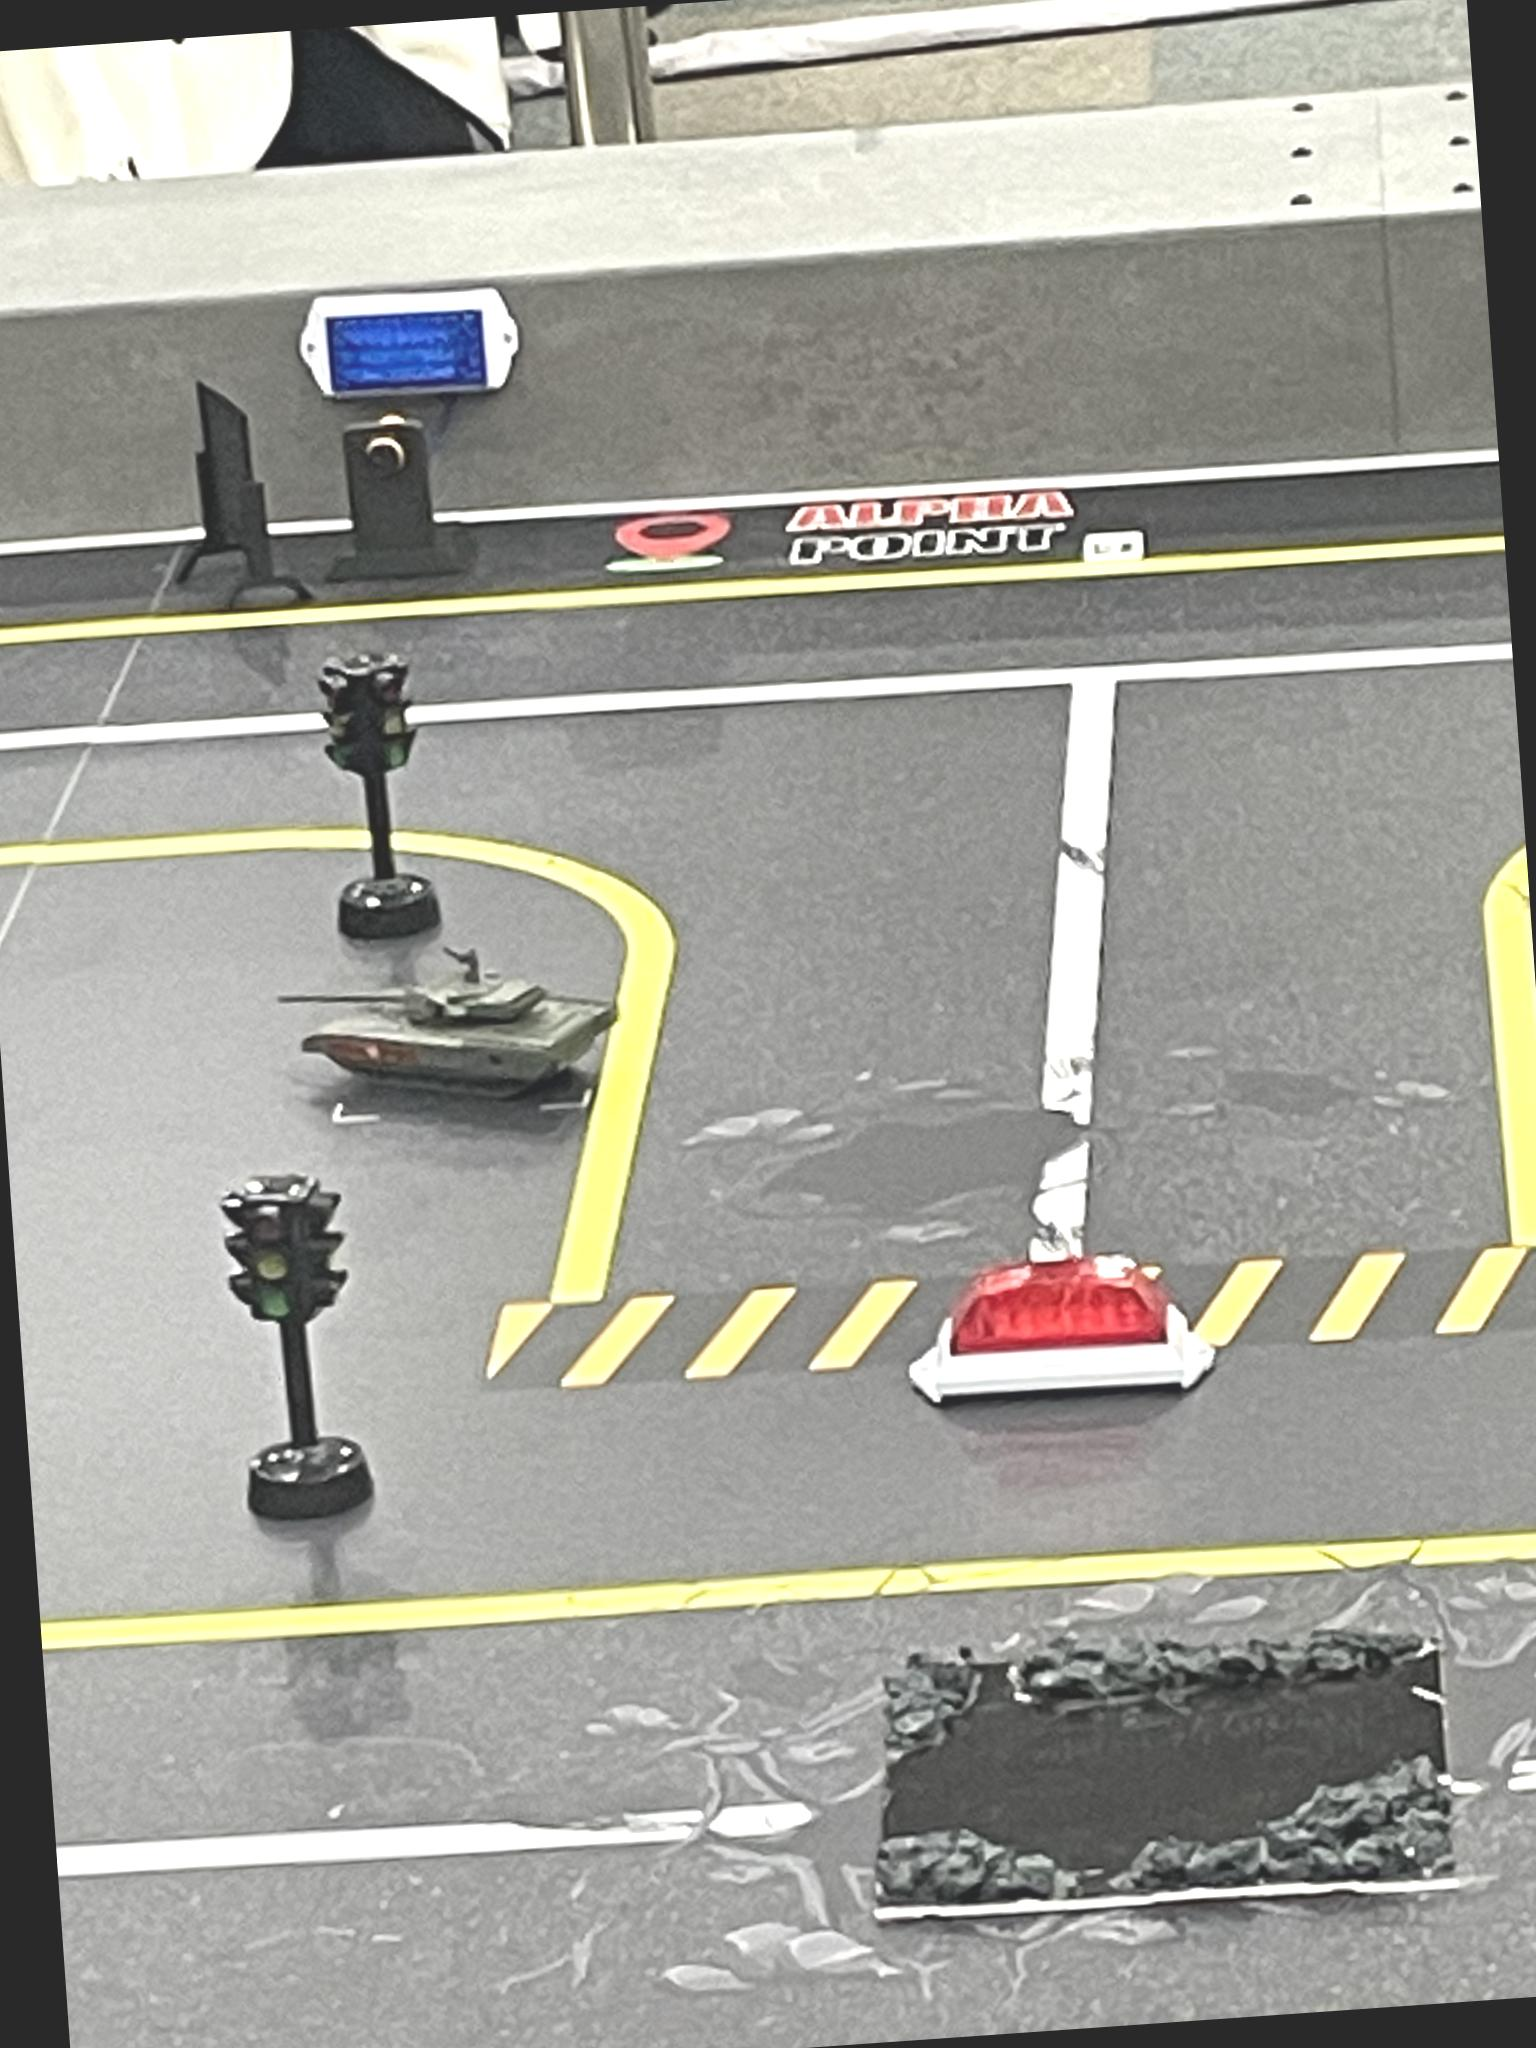Tank: (261, 934, 632, 1132)
